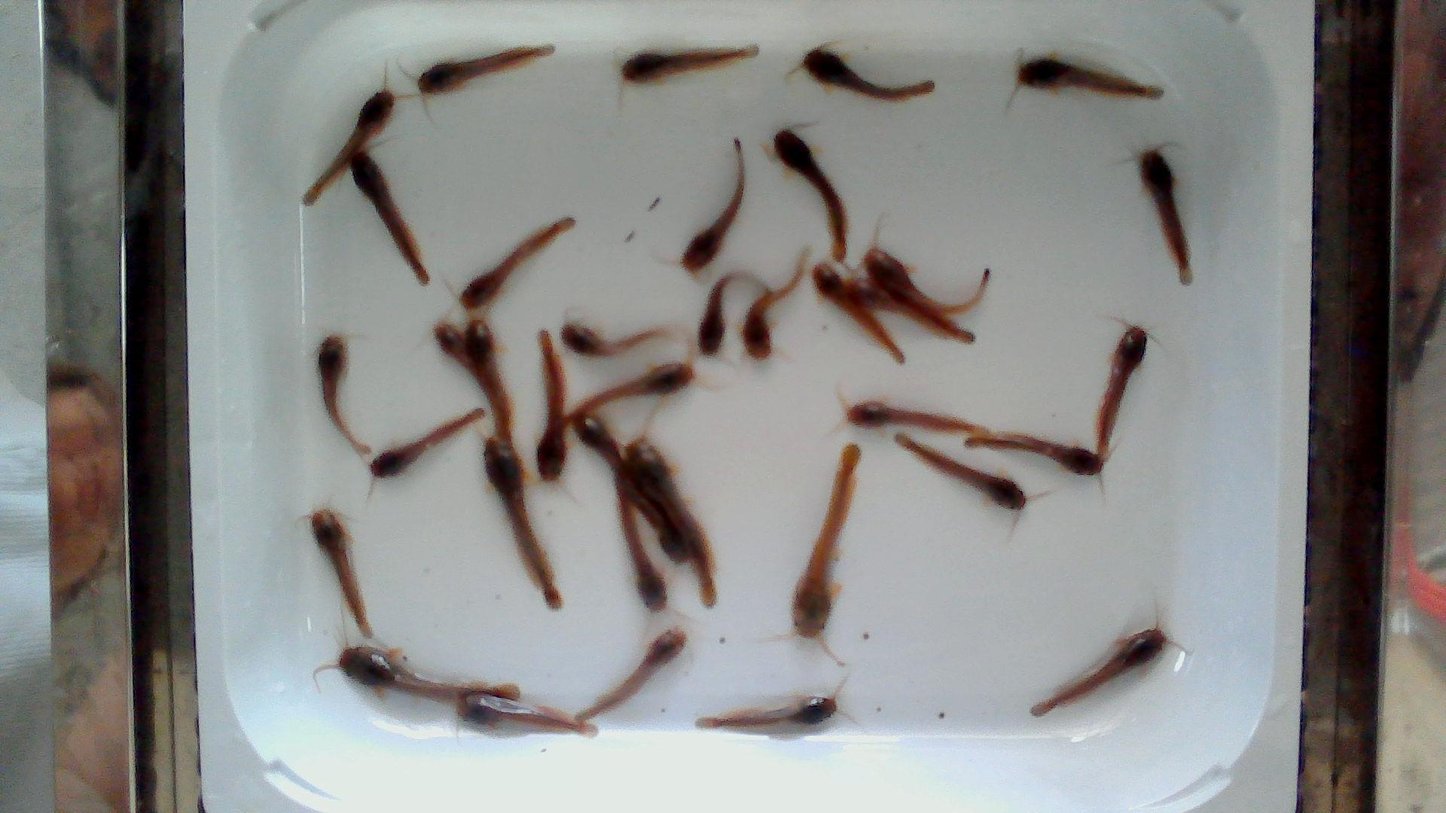lele: (625, 442, 715, 609), (484, 437, 562, 607), (793, 444, 860, 637), (1031, 627, 1167, 715), (351, 152, 429, 285), (334, 646, 519, 702), (575, 628, 686, 720), (460, 219, 573, 309), (307, 89, 395, 201), (895, 435, 1026, 510), (813, 263, 909, 365), (774, 129, 847, 261), (681, 139, 745, 271), (864, 248, 986, 315), (845, 274, 971, 337), (371, 409, 484, 477), (312, 509, 371, 637), (565, 363, 690, 423), (615, 470, 667, 613), (435, 327, 501, 438), (742, 251, 809, 360), (970, 430, 1106, 483), (801, 47, 934, 100), (1144, 152, 1196, 283), (1097, 326, 1147, 455), (417, 46, 553, 93), (698, 270, 772, 355), (1017, 55, 1161, 98), (317, 336, 370, 452), (454, 696, 599, 736), (465, 320, 511, 437), (576, 413, 640, 497), (625, 487, 691, 566), (621, 46, 757, 82), (536, 331, 567, 480), (697, 696, 837, 727), (561, 323, 675, 357), (847, 401, 968, 431)
